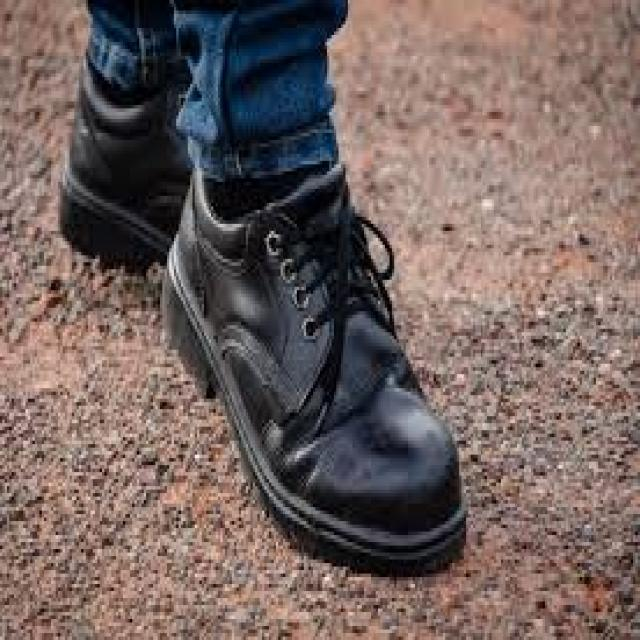shoes: (150, 133, 506, 594), (46, 59, 204, 301)
